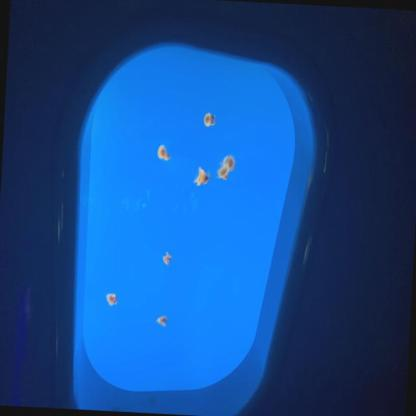jellyfish: (193, 165, 212, 187), (157, 144, 172, 162), (216, 161, 230, 180), (222, 154, 236, 172), (202, 112, 217, 128), (106, 292, 118, 307), (162, 250, 173, 266), (156, 314, 168, 326)
